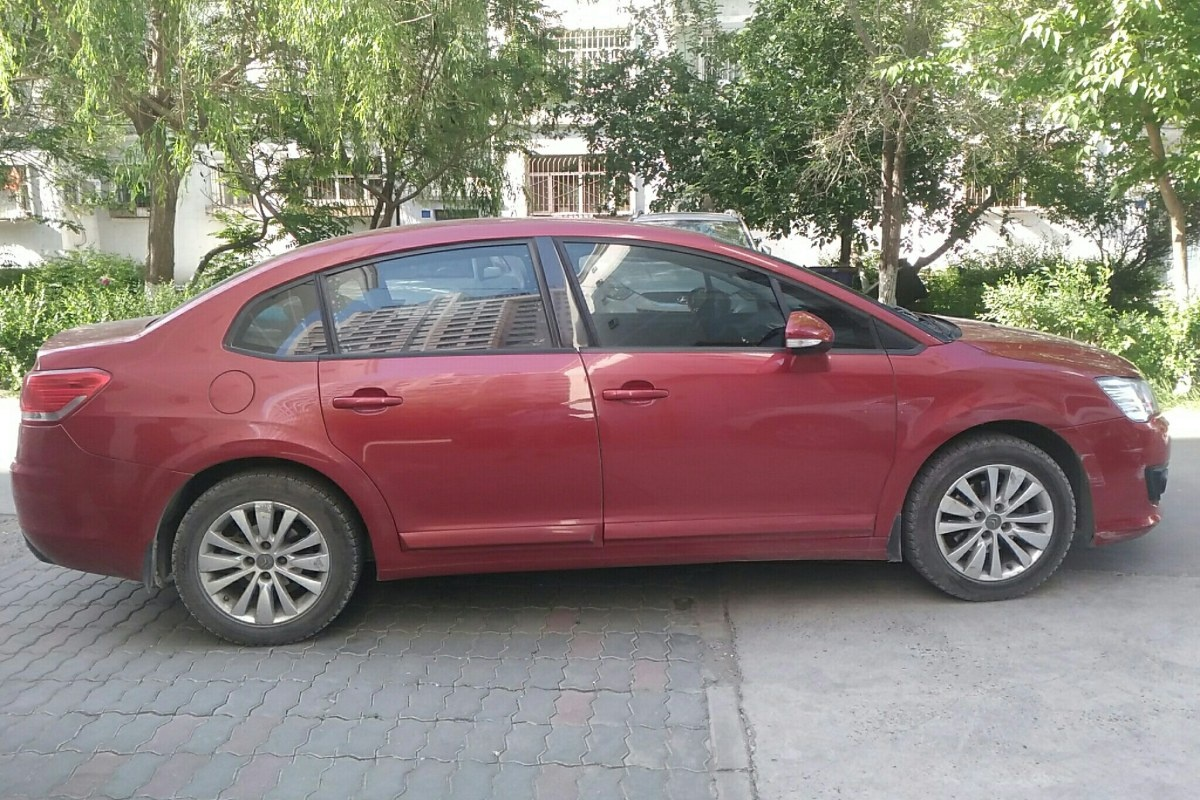family sedan: (36, 199, 1160, 638)
